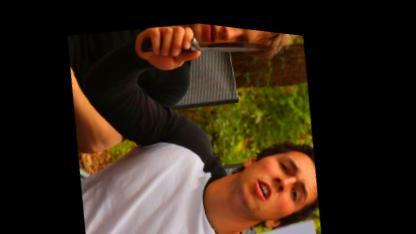knife: (141, 14, 283, 76)
